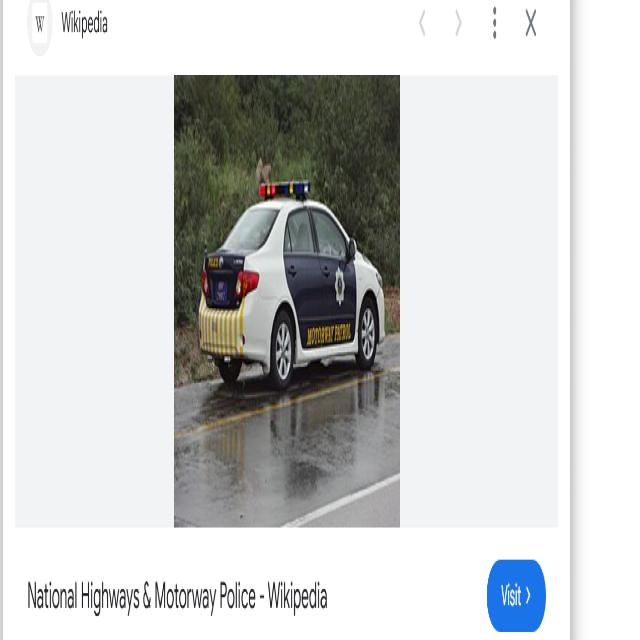police: (196, 180, 376, 388)
